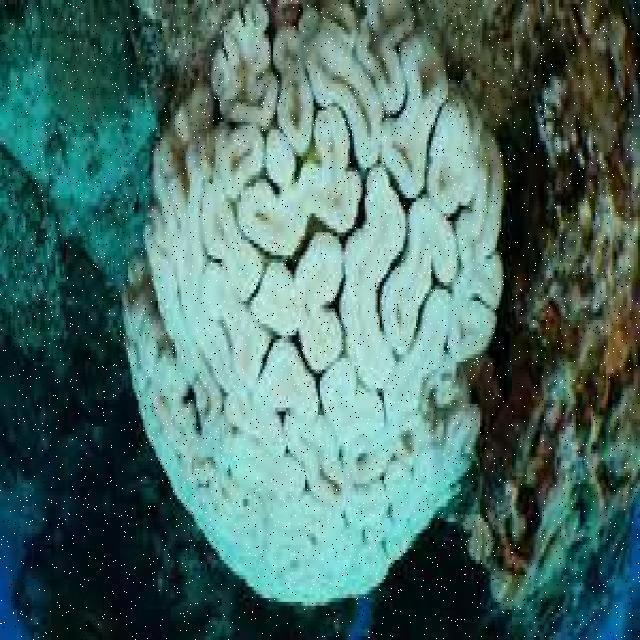Bleached: (114, 6, 506, 609)
